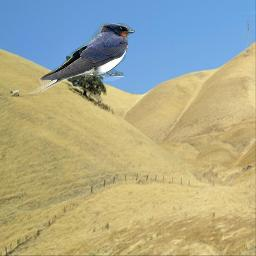Swallow: (28, 23, 135, 97)
